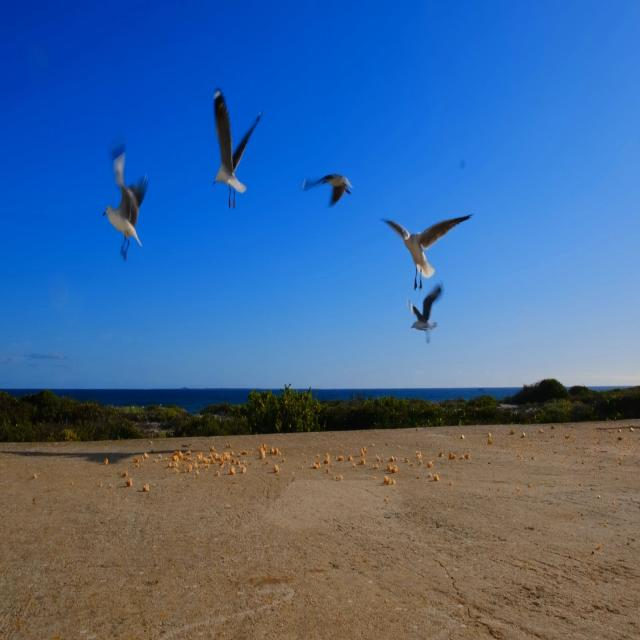bird: (375, 196, 482, 286), (205, 79, 268, 217), (97, 146, 151, 277), (404, 276, 451, 349), (299, 156, 356, 215)
